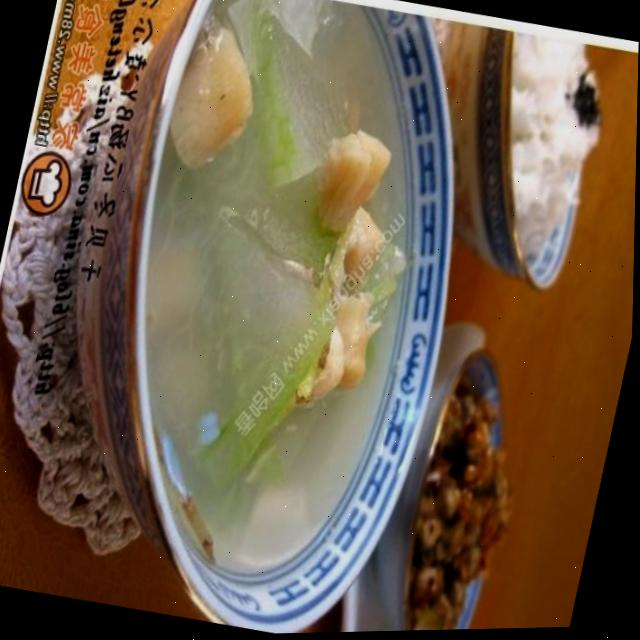汤锅炖物: (29, 0, 519, 630)
